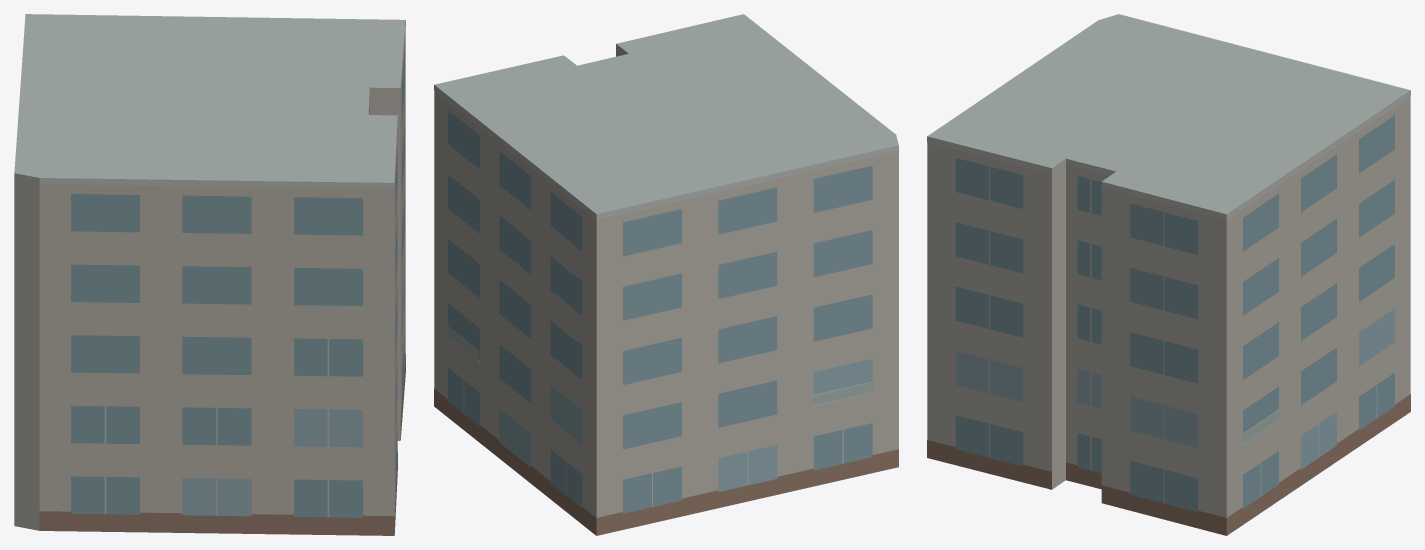
File: survey-upis-32747762.glb
3 renders of one model, left to right at view 1: azimuth 30°, elevation 25°; view 2: azimuth 150°, elevation 25°; view 3: azimuth 270°, elevation 25°, orthographic. The views are drawn at different scales.
Visible parts, largest first — view 1: survey-upis-32747762.tmp; view 2: survey-upis-32747762.tmp; view 3: survey-upis-32747762.tmp.
Boxes of the visible parts, box(x1,y1,x2,y2) form: survey-upis-32747762.tmp: box(14, 14, 405, 535); survey-upis-32747762.tmp: box(434, 14, 898, 535); survey-upis-32747762.tmp: box(927, 14, 1410, 535).
Size of the model in its own units: 17.78 by 13.3 by 18.14.
